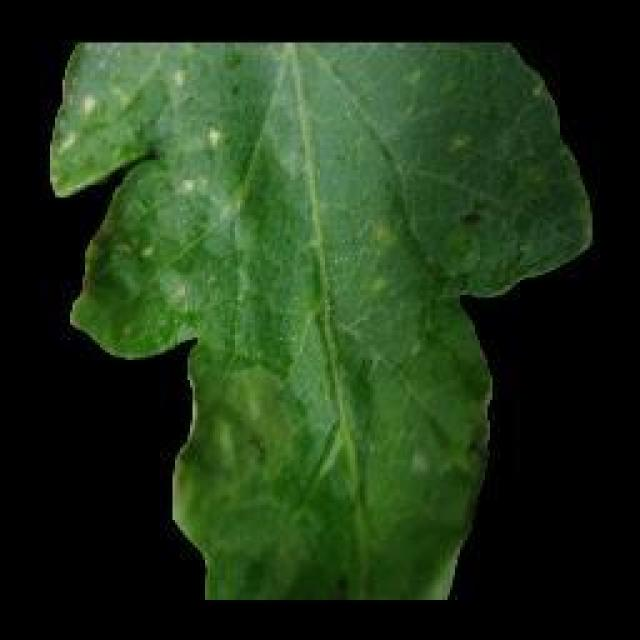Tomato late blight leaf: (50, 39, 595, 599)
